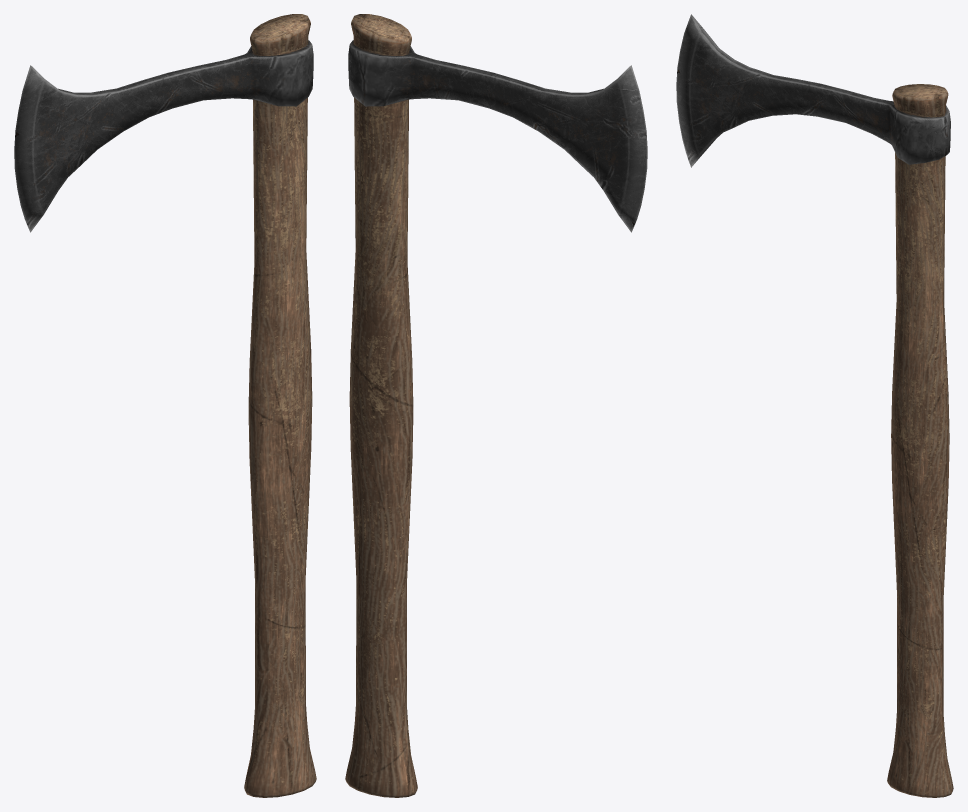
File: SM_Axe_05.fbx
The picture shows the model from 3 angles, left to right: view 1: azimuth 30°, elevation 25°; view 2: azimuth 150°, elevation 25°; view 3: azimuth 330°, elevation 25°; orthographic projection. The views are drawn at different scales.
Parts seen in each view (by area): view 1: SM_Axe_05_LOD0; view 2: SM_Axe_05_LOD0; view 3: SM_Axe_05_LOD0.
Part boxes in pixels (x1,y1,x2,y2): SM_Axe_05_LOD0: (14, 14, 316, 797); SM_Axe_05_LOD0: (345, 14, 647, 797); SM_Axe_05_LOD0: (676, 14, 953, 797).
Size of the model in its own units: 21.88 by 3.62 by 54.51.
1 material, 1 textured.
